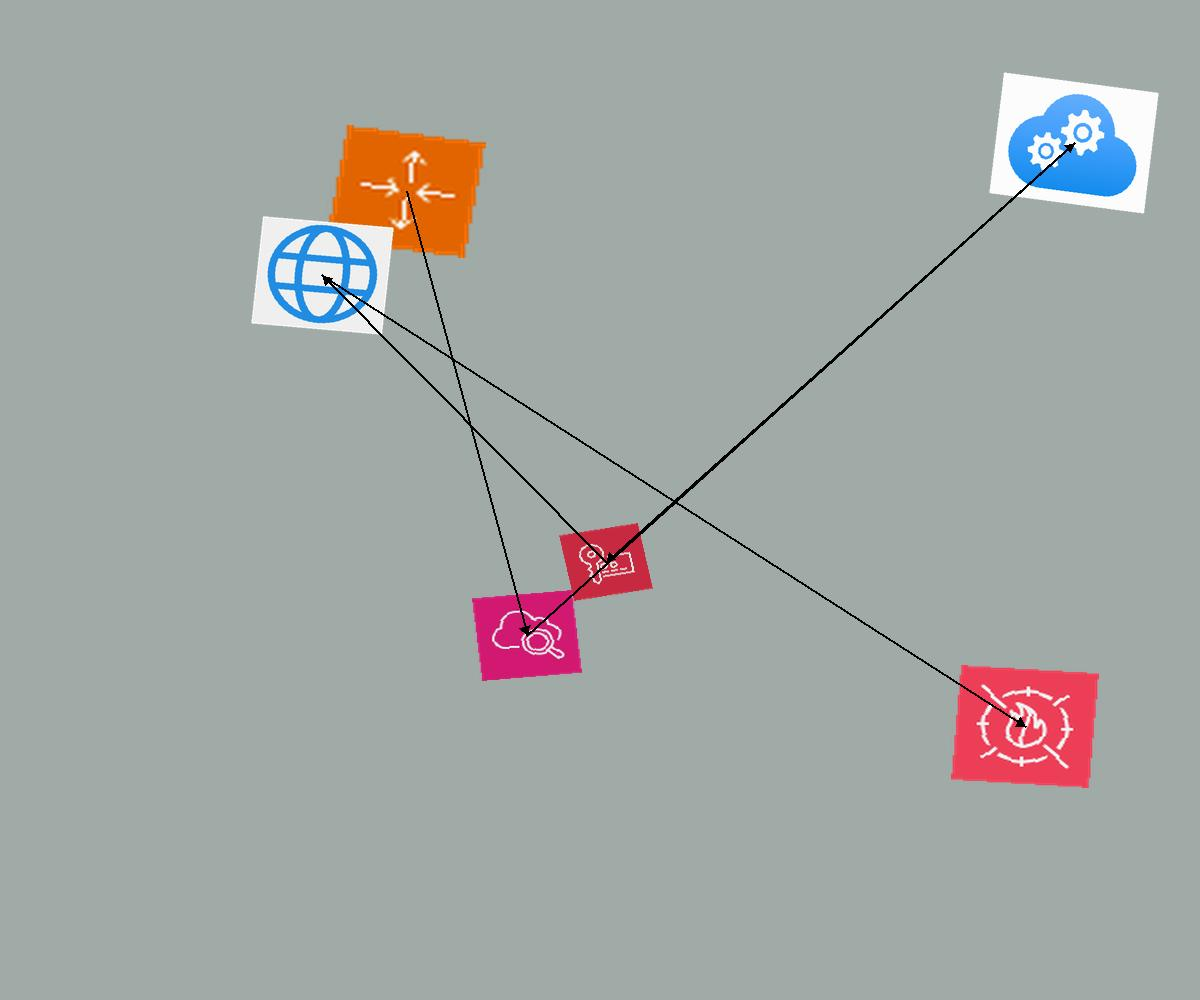AWS-CloudWatch: (472, 590, 582, 681)
AWS-Key-Management-Service: (559, 523, 653, 601)
AWS-Scaling-group: (326, 125, 486, 258)
AWS-WAF: (951, 665, 1099, 788)
Azure_cloud_services: (989, 72, 1159, 214)
Azure_http: (251, 216, 394, 335)
